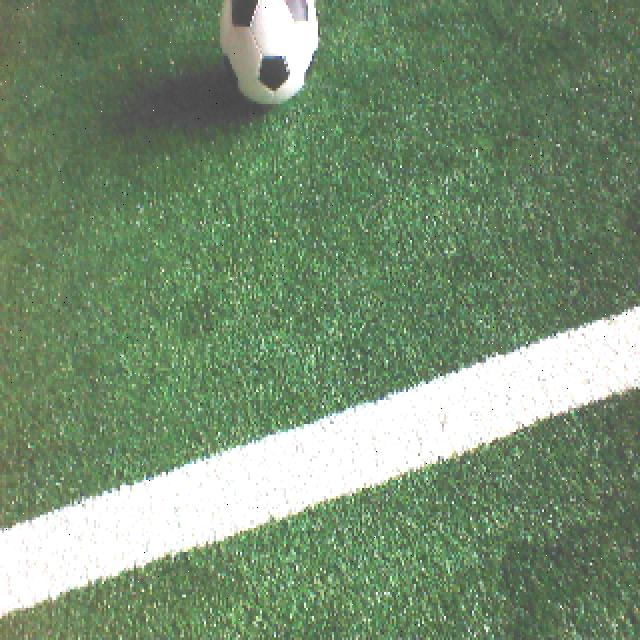ball: (218, 0, 320, 109)
